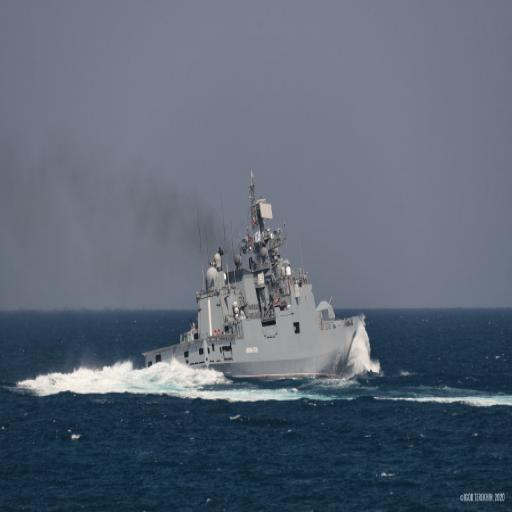Fragata: (140, 166, 366, 389)
